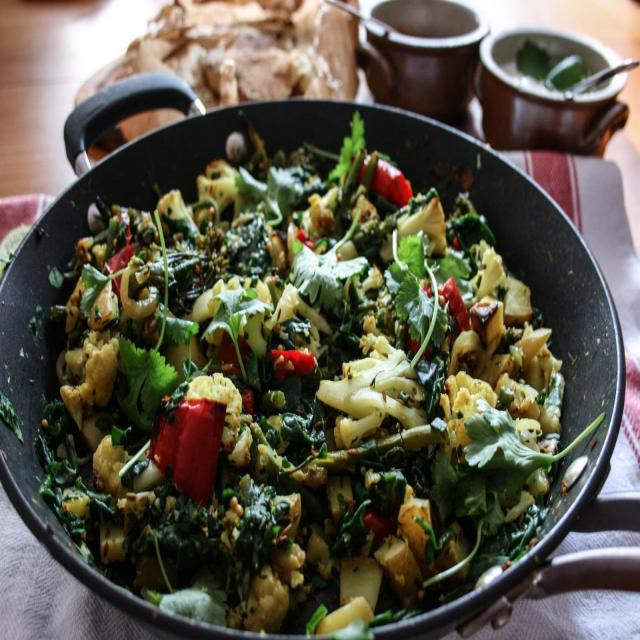Aloo Gobi: (100, 185, 478, 593)
